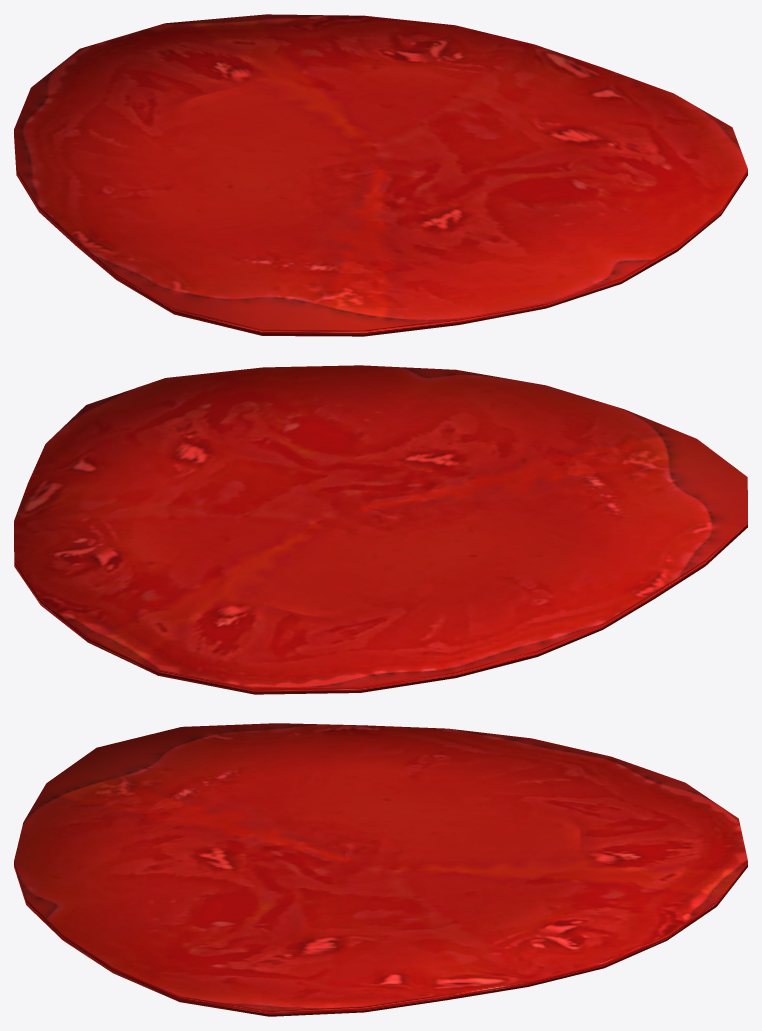
File: sauce-ketchup.glb
3 views of the same model, one above another, from view 1: azimuth 30°, elevation 25°; view 2: azimuth 150°, elevation 25°; view 3: azimuth 270°, elevation 25° (orthographic). The views are drawn at different scales.
Parts seen in each view (by area): view 1: sauce-ketchup; view 2: sauce-ketchup; view 3: sauce-ketchup.
Boxes of the visible parts, box(x1,y1,x2,y2) form: sauce-ketchup: box(14, 14, 747, 336); sauce-ketchup: box(14, 365, 747, 694); sauce-ketchup: box(14, 723, 747, 1016).
Size of the model in its own units: 8.2 by 0.13 by 8.84.
1 material, 1 textured.
